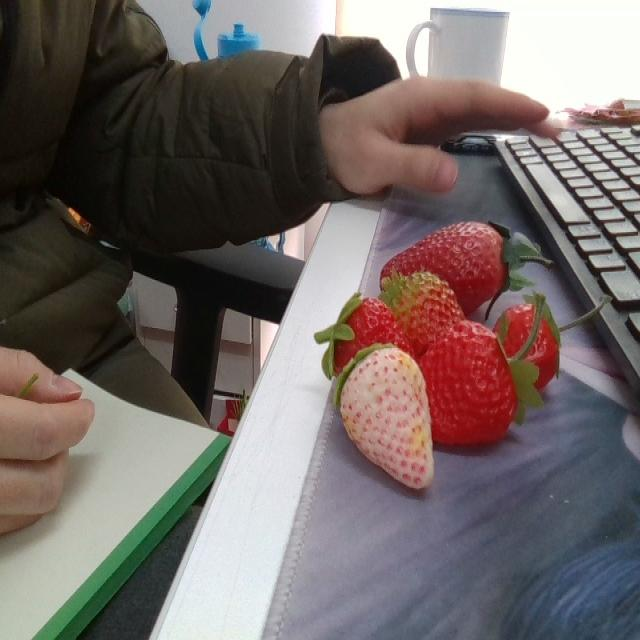immature: (340, 354, 432, 489)
mature: (380, 217, 516, 307), (422, 324, 514, 448), (377, 267, 466, 353), (489, 296, 564, 393), (327, 291, 412, 357)
